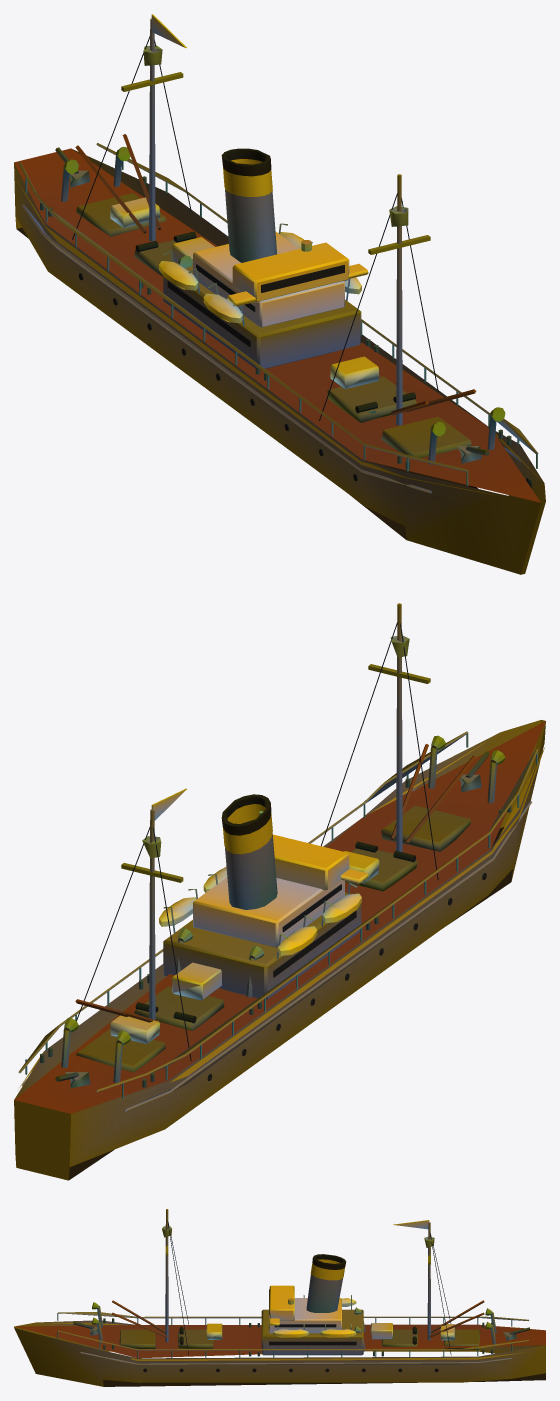
File: ship_lo.glb
3 renders of one model, top to bottom at view 1: azimuth 30°, elevation 25°; view 2: azimuth 150°, elevation 25°; view 3: azimuth 270°, elevation 25°, orthographic. The views are drawn at different scales.
Visible parts, largest first — view 1: hull, funnel; view 2: hull, funnel; view 3: hull, funnel.
Part boxes in pixels (left/top/right/bottom): hull: left=14, top=14, right=545, bottom=574; funnel: left=221, top=148, right=276, bottom=262; hull: left=14, top=603, right=545, bottom=1180; funnel: left=221, top=794, right=277, bottom=909; hull: left=14, top=1209, right=545, bottom=1386; funnel: left=306, top=1254, right=346, bottom=1312.
Size of the model in its own units: 0.1163 by 0.248 by 0.73.
